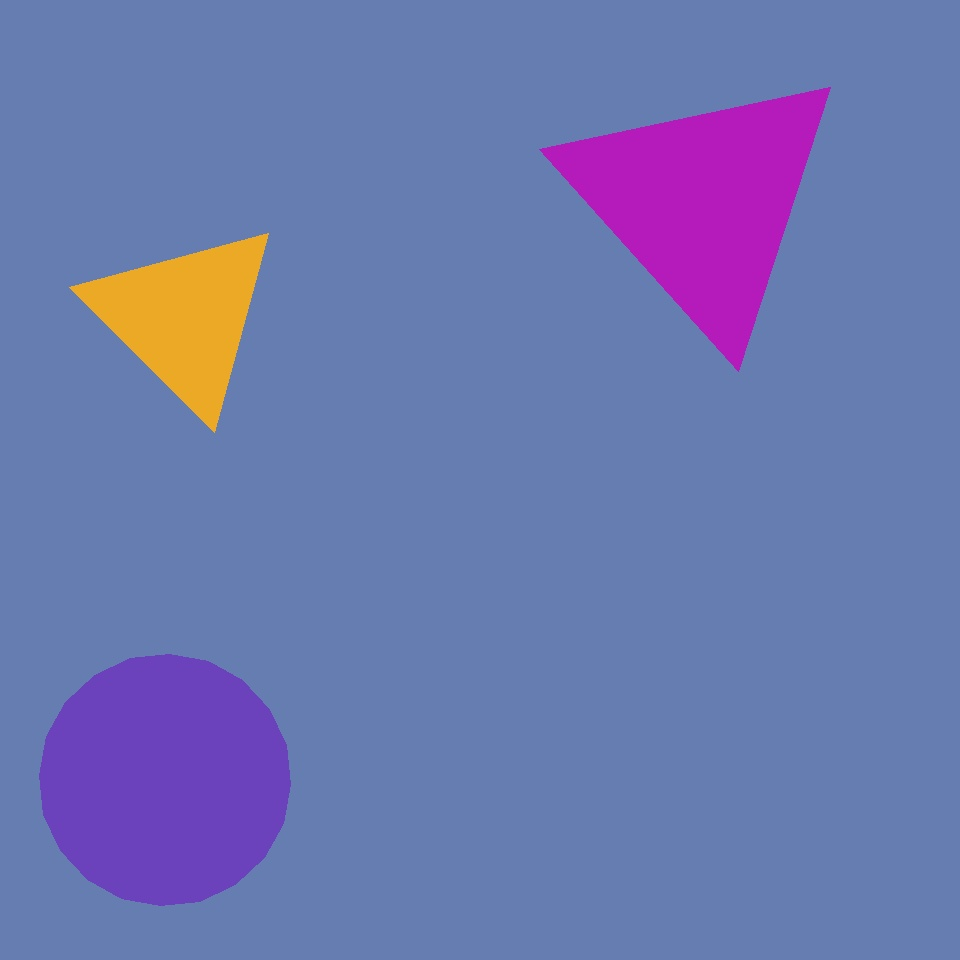circle: (558, 61, 848, 345), (84, 218, 284, 418), (758, 411, 920, 595), (216, 288, 295, 372)
square: (552, 243, 773, 464), (585, 769, 740, 924)
triangle: (39, 654, 290, 906), (640, 684, 888, 932)
